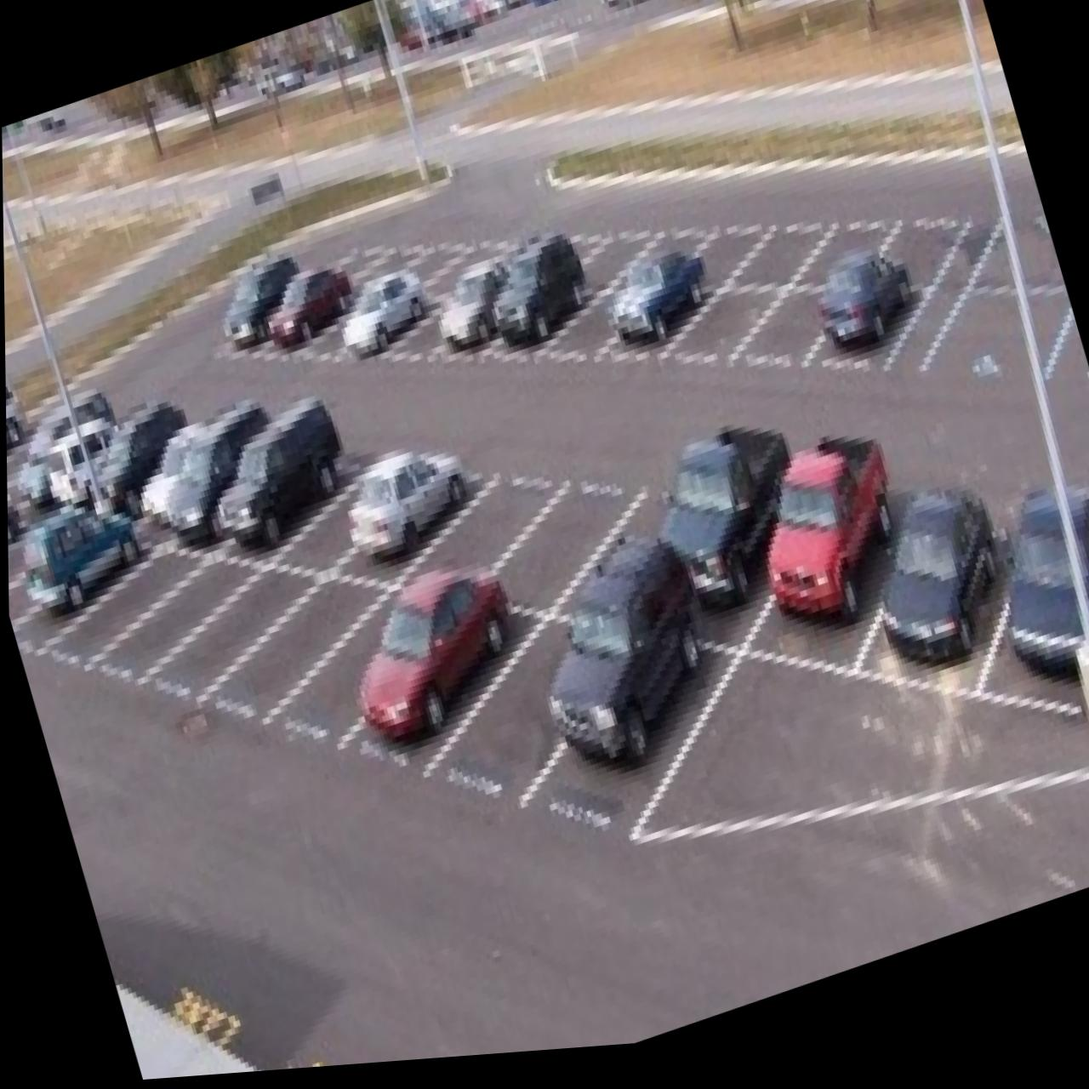cars: (505, 571, 742, 854), (833, 440, 1028, 697), (330, 555, 539, 790), (724, 434, 921, 676), (619, 401, 812, 642), (945, 465, 1089, 723), (197, 391, 363, 557), (322, 417, 484, 587), (8, 502, 158, 661), (138, 389, 285, 548), (800, 243, 921, 383), (98, 392, 222, 522), (594, 261, 707, 381), (63, 394, 171, 519), (24, 393, 134, 513), (252, 250, 358, 368), (331, 267, 434, 374), (481, 264, 584, 370), (420, 284, 518, 393), (6, 399, 95, 503), (210, 263, 298, 359)
empty: (417, 582, 628, 823), (186, 523, 405, 751), (260, 553, 453, 793), (110, 524, 322, 728), (533, 433, 719, 639), (77, 530, 267, 714), (473, 427, 649, 613), (30, 522, 211, 687), (395, 434, 553, 603), (264, 419, 410, 572), (716, 166, 855, 307), (926, 268, 1067, 404), (788, 175, 903, 301), (651, 273, 778, 382), (861, 187, 976, 302), (669, 196, 784, 311), (567, 199, 687, 306), (615, 193, 735, 299), (537, 270, 642, 382), (290, 262, 392, 363), (741, 277, 839, 376), (422, 217, 522, 311), (346, 204, 441, 302), (526, 206, 628, 295), (309, 215, 399, 306), (371, 285, 457, 380), (387, 221, 472, 305)
